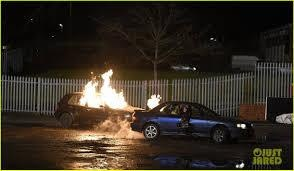fire: (79, 66, 128, 110), (146, 93, 162, 108)
